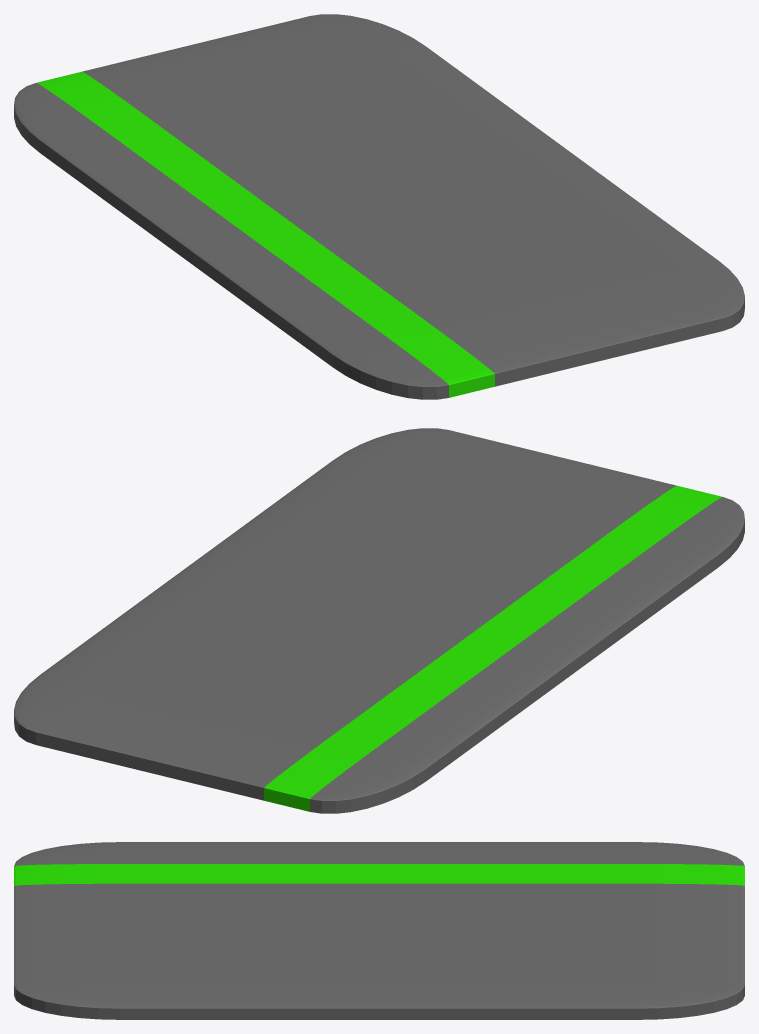
The model's file is GreenKeyCard.glb.
The picture shows the model from 3 angles, top to bottom: view 1: azimuth 30°, elevation 25°; view 2: azimuth 150°, elevation 25°; view 3: azimuth 270°, elevation 25°; orthographic projection. The views are drawn at different scales.
Parts seen in each view (by area): view 1: Cube; view 2: Cube; view 3: Cube.
Part boxes in pixels (<box>): Cube: <box>14,14,744,399</box>; Cube: <box>14,428,744,813</box>; Cube: <box>14,842,744,1019</box>.
Size of the model in its own units: 0.0525 by 0.00233 by 0.0974.
